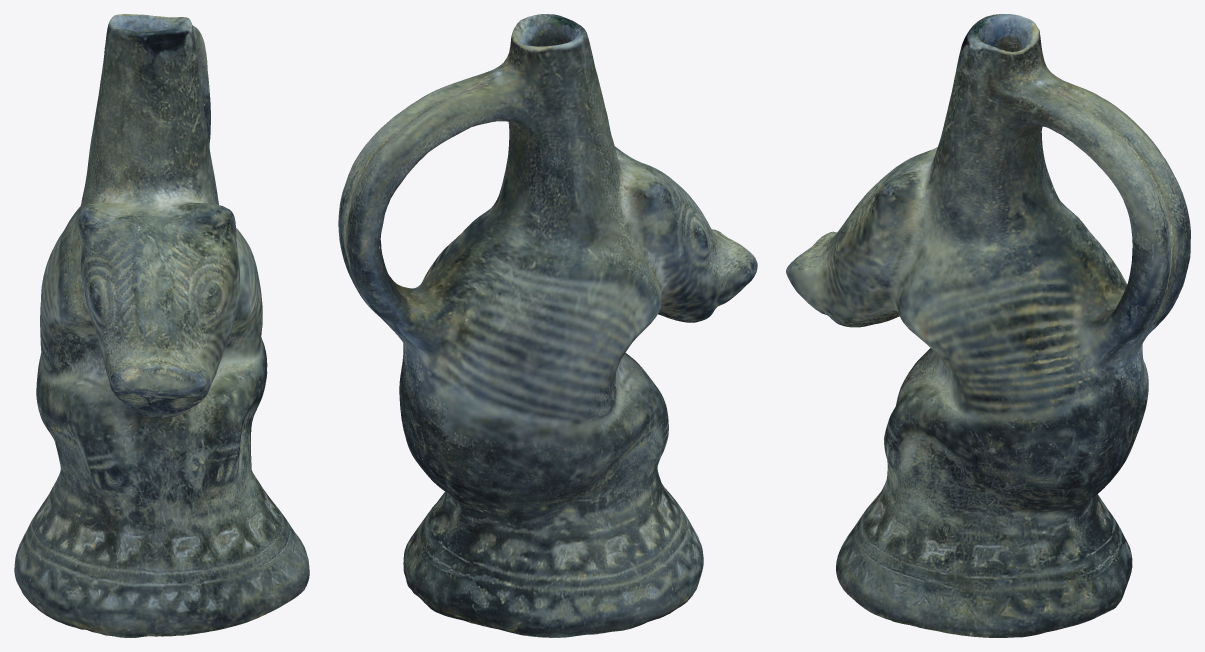
Rendered from botella_chimu_lambayeque.glb.
3 views of the same model, side by side, from view 1: azimuth 30°, elevation 25°; view 2: azimuth 150°, elevation 25°; view 3: azimuth 270°, elevation 25° (orthographic).
Parts seen in each view (by area): view 1: Model; view 2: Model; view 3: Model.
Boxes of the visible parts, x1,y1,x2,y2 form: Model: (14,14,309,637); Model: (338,14,757,637); Model: (786,14,1190,637).
Size of the model in its own units: 3.6 by 7.46 by 4.94.
1 material, 1 textured.
